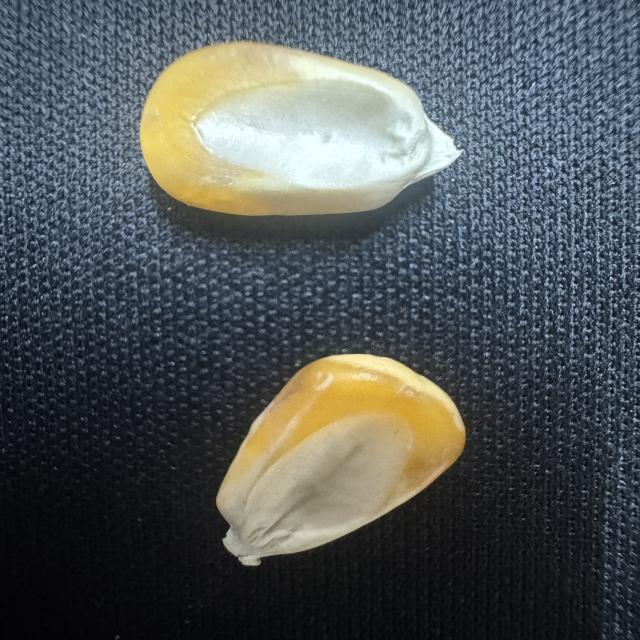Good-Seed: (187, 338, 485, 590), (135, 38, 462, 222)
